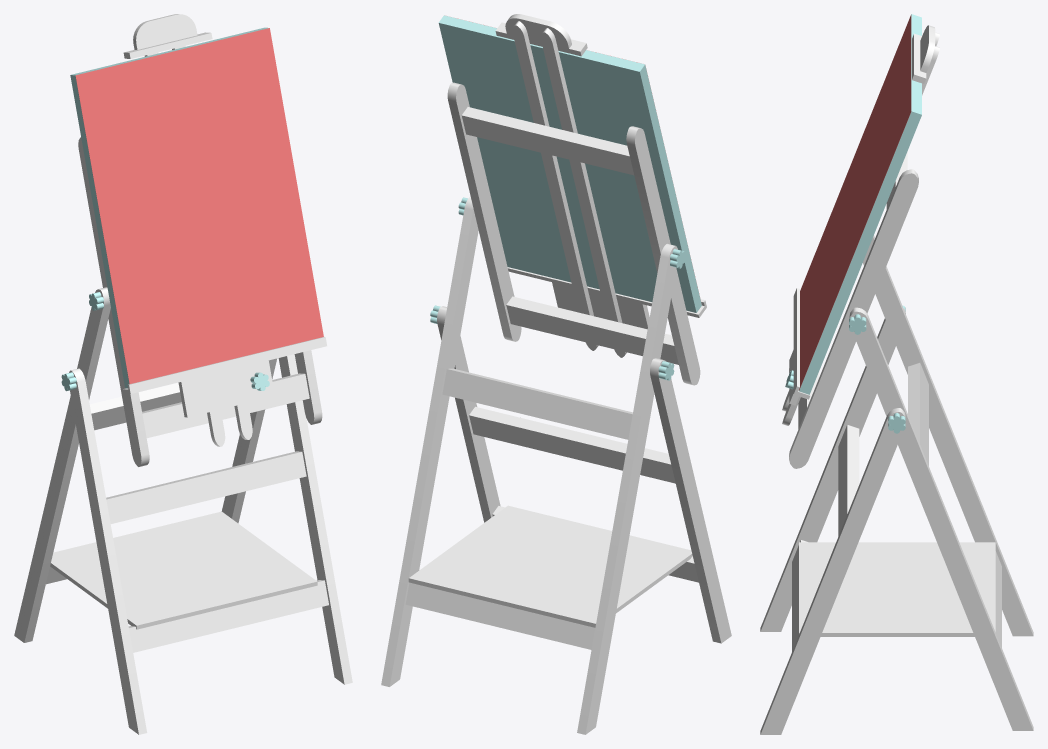
3 views of the same model, side by side, from view 1: azimuth 30°, elevation 25°; view 2: azimuth 150°, elevation 25°; view 3: azimuth 270°, elevation 25° (orthographic). The views are drawn at different scales.
Parts seen in each view (by area): view 1: easel.dxf_001; view 2: easel.dxf_001; view 3: easel.dxf_001.
Part boxes in pixels (x1,y1,x2,y2): easel.dxf_001: (14,14,352,734); easel.dxf_001: (381,14,731,734); easel.dxf_001: (760,14,1033,734).
Size of the model in its own units: 24.48 by 65.05 by 24.87.
